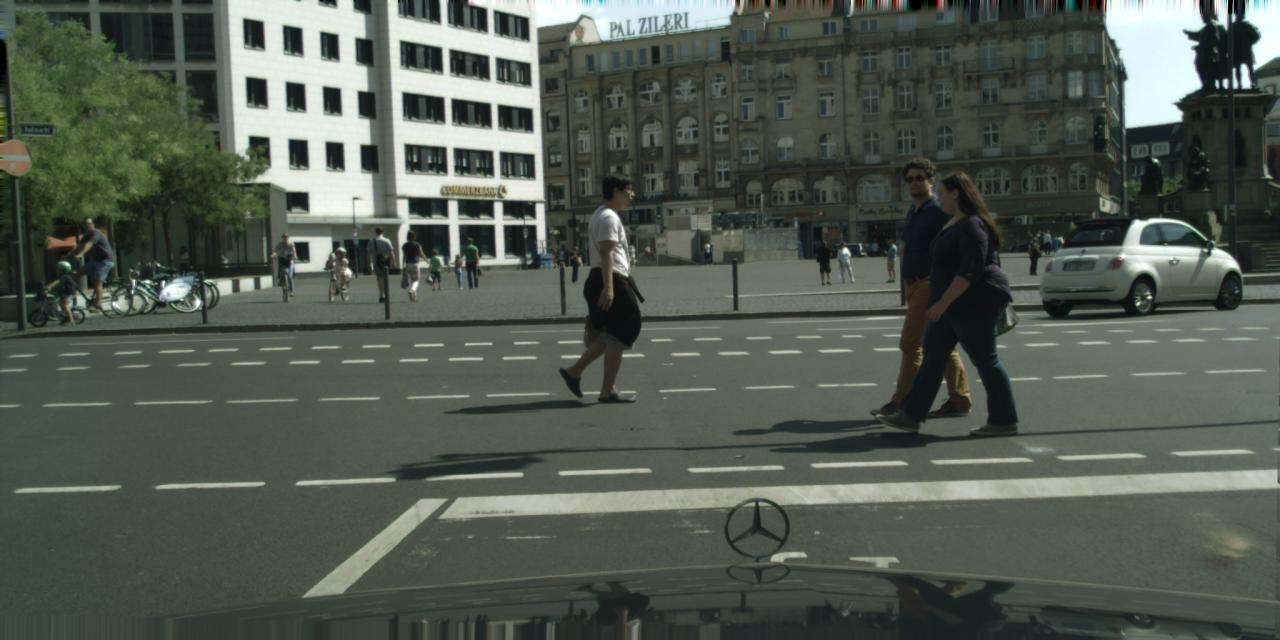ped: (898, 171, 1006, 435), (867, 159, 972, 415), (558, 170, 652, 400), (70, 215, 102, 297), (366, 226, 396, 302), (397, 228, 426, 302), (53, 260, 78, 322), (272, 232, 296, 290), (461, 238, 481, 288), (815, 240, 834, 284), (330, 246, 348, 290), (881, 239, 898, 281), (427, 249, 444, 290), (836, 242, 852, 282), (176, 246, 192, 286), (1027, 237, 1041, 274), (567, 246, 581, 282), (451, 252, 465, 288), (326, 252, 338, 282), (1042, 229, 1052, 255), (705, 240, 714, 264), (702, 240, 711, 264), (1024, 232, 1034, 252), (812, 236, 821, 256), (1034, 230, 1042, 252), (627, 245, 635, 266), (1037, 230, 1045, 250), (1051, 233, 1058, 253), (551, 248, 558, 268), (644, 246, 651, 265), (557, 247, 564, 266), (864, 240, 871, 257), (872, 239, 878, 255), (1058, 234, 1064, 250), (563, 250, 569, 266)
